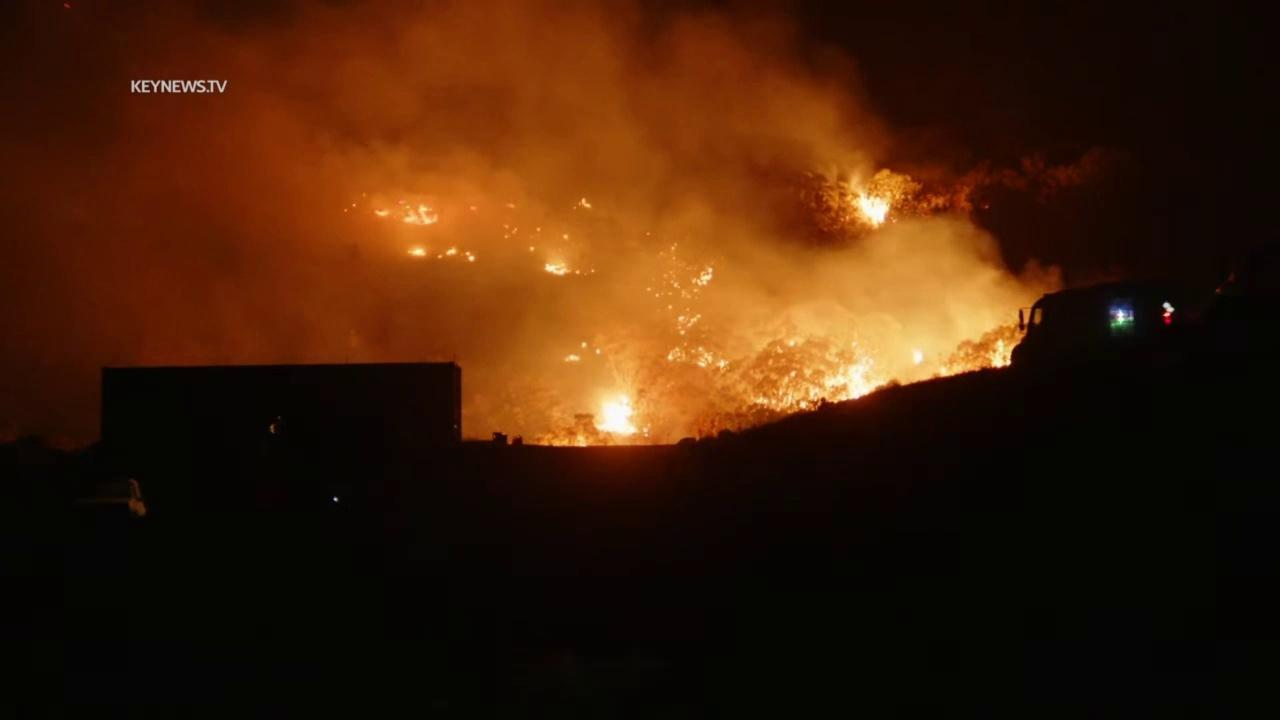fire: (753, 340, 888, 413), (595, 391, 651, 437), (665, 343, 732, 374), (857, 191, 892, 226), (691, 262, 715, 300), (399, 203, 440, 225), (987, 337, 1014, 370), (674, 314, 702, 336), (544, 262, 572, 277), (562, 352, 582, 366), (578, 196, 593, 210), (410, 245, 426, 257), (374, 207, 392, 217), (911, 350, 923, 364), (464, 251, 477, 262), (444, 246, 458, 256), (579, 341, 587, 349), (594, 347, 602, 355), (469, 205, 479, 211), (562, 233, 569, 241), (511, 227, 518, 235), (507, 202, 516, 208), (528, 246, 535, 253), (503, 223, 510, 229), (535, 227, 542, 232), (503, 234, 509, 239)
smoke: (0, 0, 1067, 451)
